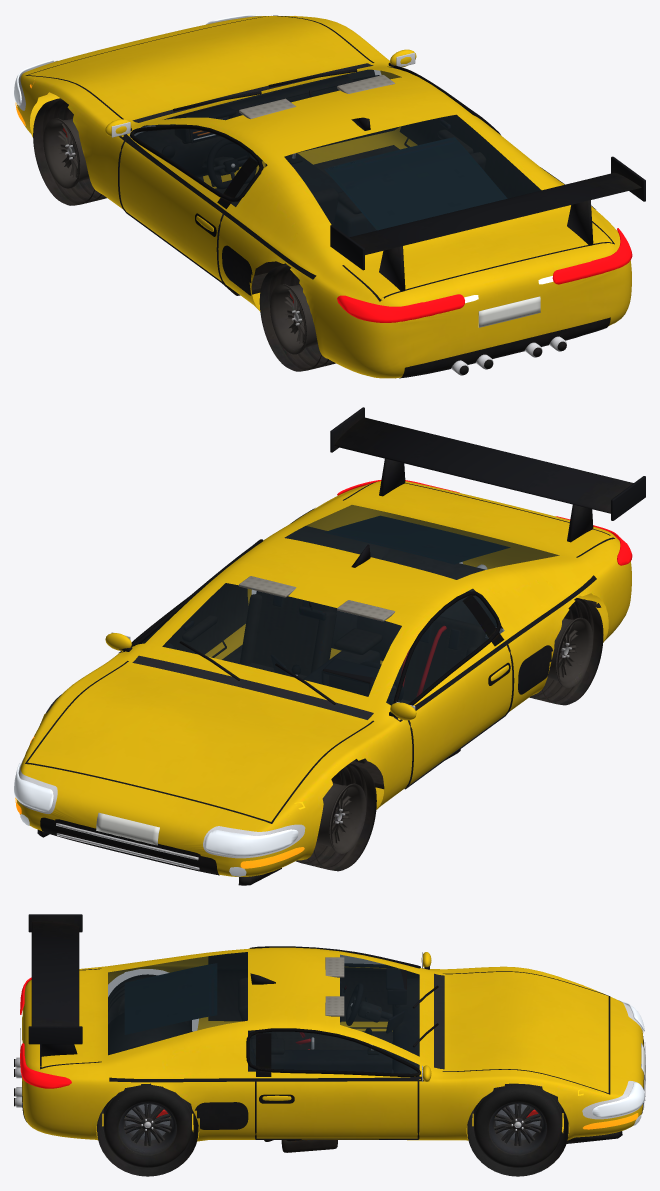
Rendered from SportsCar.glb.
3 renders of one model, top to bottom at view 1: azimuth 30°, elevation 25°; view 2: azimuth 150°, elevation 25°; view 3: azimuth 270°, elevation 25°, orthographic. The views are drawn at different scales.
Visible parts, largest first — view 1: SportsCar_Body, SportsCar_Trim, SportsCar_Glass, SportsCar_Interior, SportsCar_Wheel3, SportsCar_Wheel1, SportsCar_Lights, SportsCar_Steer; view 2: SportsCar_Body, SportsCar_Trim, SportsCar_Glass, SportsCar_Interior, SportsCar_Wheel1, SportsCar_Wheel3, SportsCar_Lights; view 3: SportsCar_Body, SportsCar_Trim, SportsCar_Glass, SportsCar_Interior, SportsCar_Wheel2, SportsCar_Wheel4, SportsCar_Lights, SportsCar_Wheel3, SportsCar_Steer.
Part boxes in pixels (x1=…): SportsCar_Body: x1=17, y1=16, x2=631, y2=378; SportsCar_Trim: x1=18, y1=15, x2=645, y2=378; SportsCar_Glass: x1=130, y1=66, x2=541, y2=237; SportsCar_Interior: x1=135, y1=74, x2=540, y2=295; SportsCar_Wheel3: x1=259, y1=264, x2=335, y2=371; SportsCar_Wheel1: x1=33, y1=98, x2=106, y2=205; SportsCar_Lights: x1=14, y1=14, x2=632, y2=322; SportsCar_Steer: x1=206, y1=138, x2=256, y2=189; SportsCar_Body: x1=17, y1=481, x2=631, y2=876; SportsCar_Trim: x1=18, y1=407, x2=645, y2=885; SportsCar_Glass: x1=140, y1=505, x2=559, y2=705; SportsCar_Interior: x1=140, y1=576, x2=485, y2=789; SportsCar_Wheel1: x1=296, y1=763, x2=376, y2=871; SportsCar_Wheel3: x1=529, y1=598, x2=603, y2=705; SportsCar_Lights: x1=14, y1=480, x2=632, y2=876; SportsCar_Body: x1=22, y1=947, x2=643, y2=1141; SportsCar_Trim: x1=14, y1=914, x2=645, y2=1176; SportsCar_Glass: x1=108, y1=952, x2=419, y2=1076; SportsCar_Interior: x1=208, y1=952, x2=419, y2=1152; SportsCar_Wheel2: x1=473, y1=1084, x2=562, y2=1167; SportsCar_Wheel4: x1=103, y1=1084, x2=191, y2=1167; SportsCar_Lights: x1=20, y1=977, x2=644, y2=1129; SportsCar_Wheel3: x1=108, y1=974, x2=191, y2=1029; SportsCar_Steer: x1=346, y1=983, x2=363, y2=1025.
Size of the model in its own units: 7.61 by 4.26 by 16.41.
13 materials, 8 textured.
